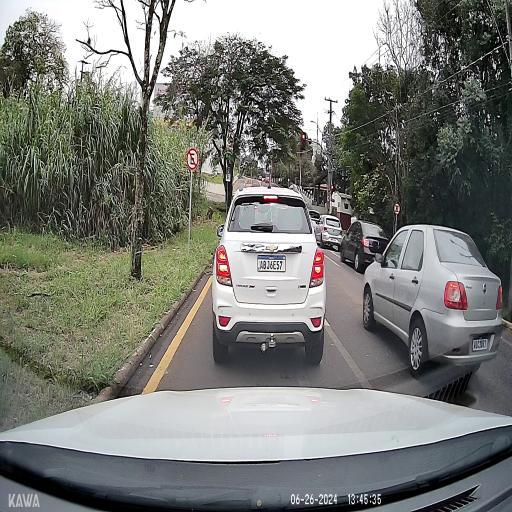R-6a: (186, 148, 198, 171)
R-6c: (394, 202, 400, 214)
